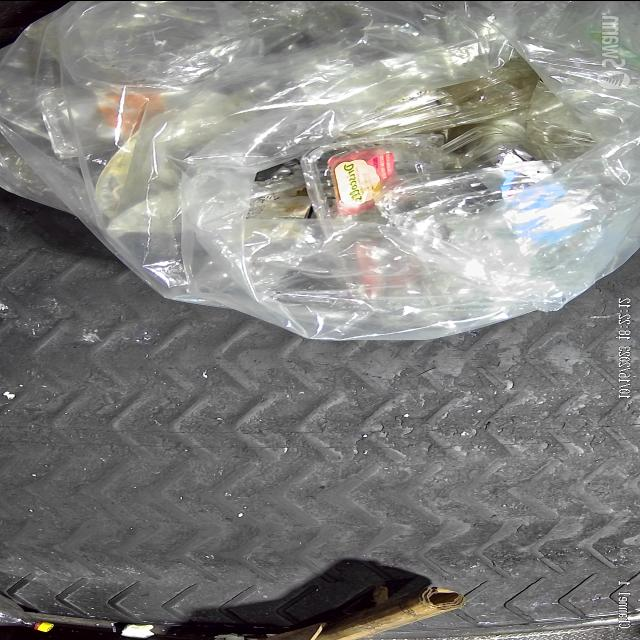plastic_bottle: (0, 594, 56, 632)
